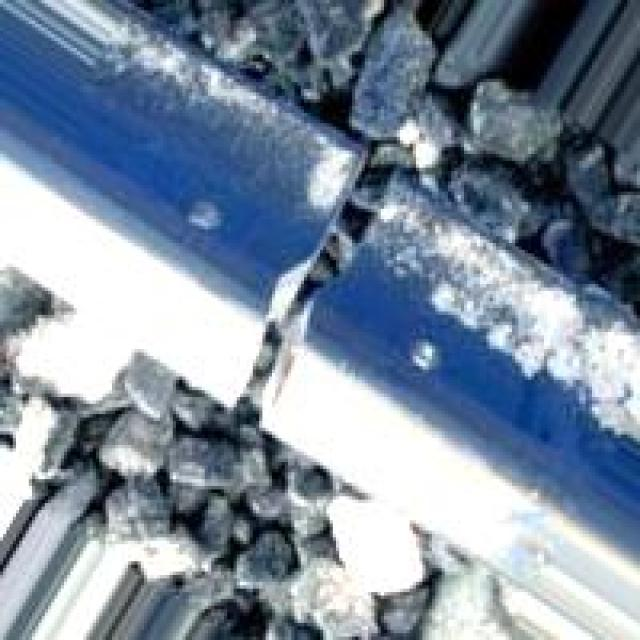crack: (177, 95, 441, 476)
